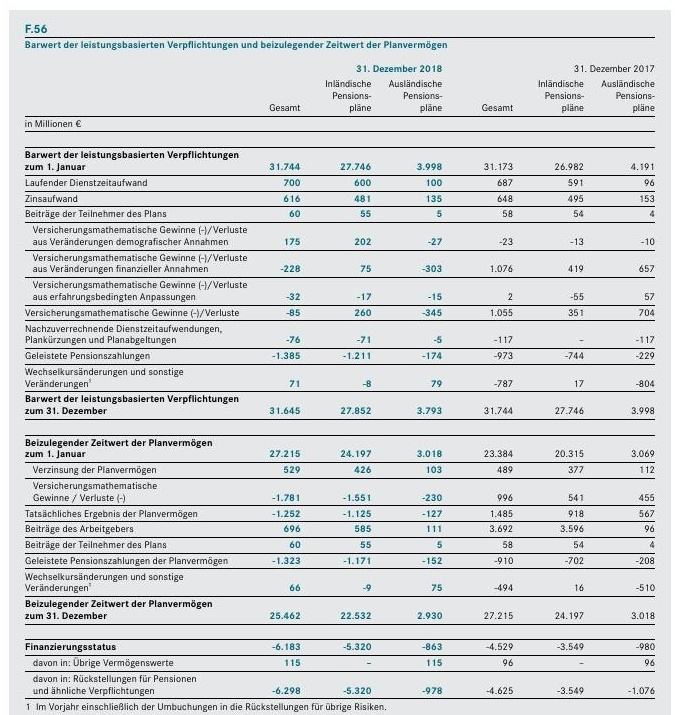table: (0, 0, 684, 715)
